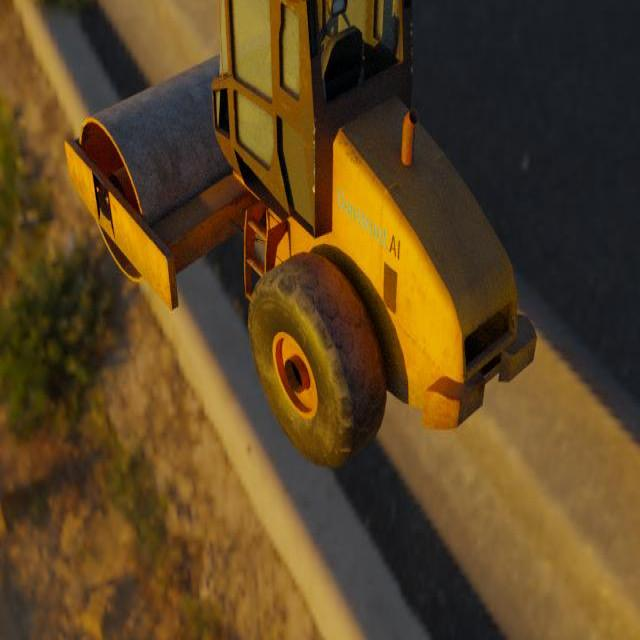Roller: (64, 0, 537, 469)
